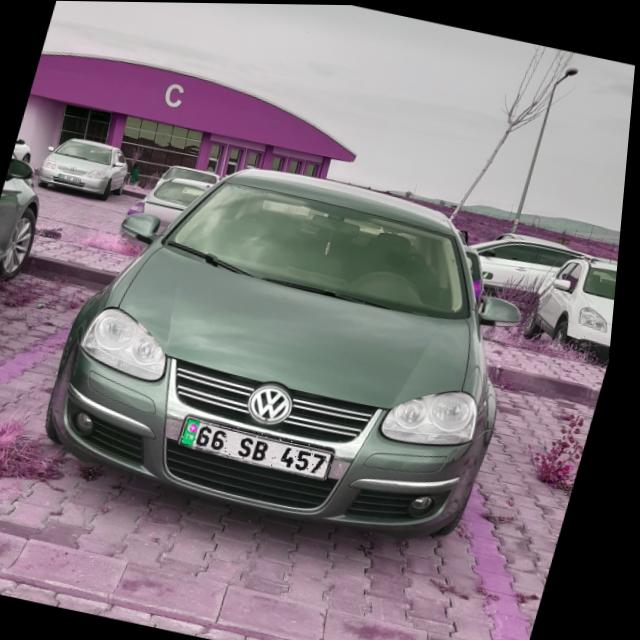license_plate: (185, 416, 347, 477)
